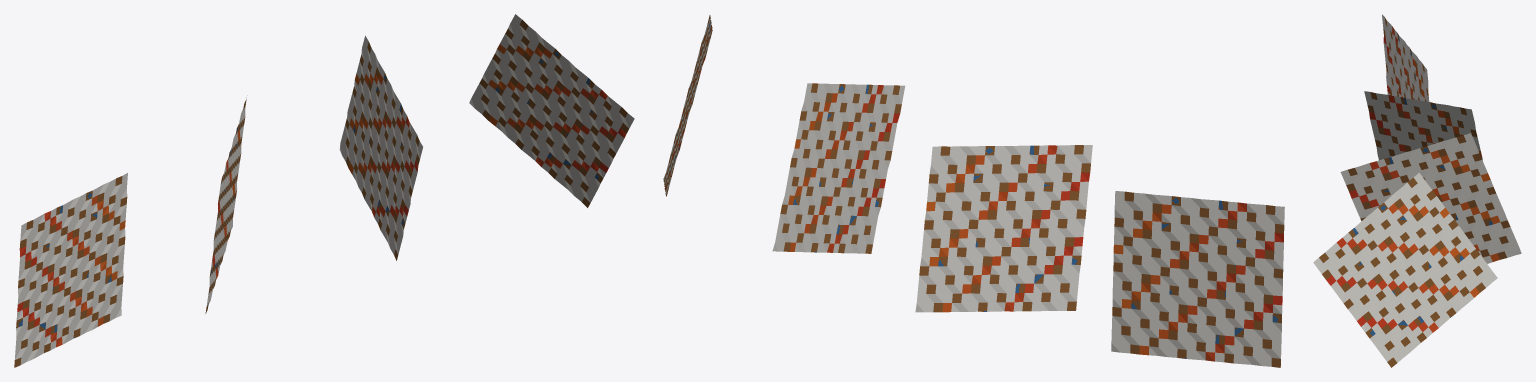
Rendered from bulk.obj.
3 renders of one model, left to right at view 1: azimuth 30°, elevation 25°; view 2: azimuth 150°, elevation 25°; view 3: azimuth 270°, elevation 25°, orthographic. The views are drawn at different scales.
Bounding box in the file's own units: 27.4 × 9.83 × 9.85.
20 materials, 1 textured.
